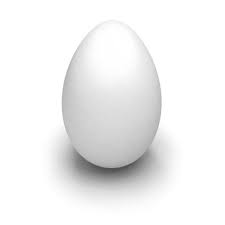eggs: (59, 11, 164, 167)
